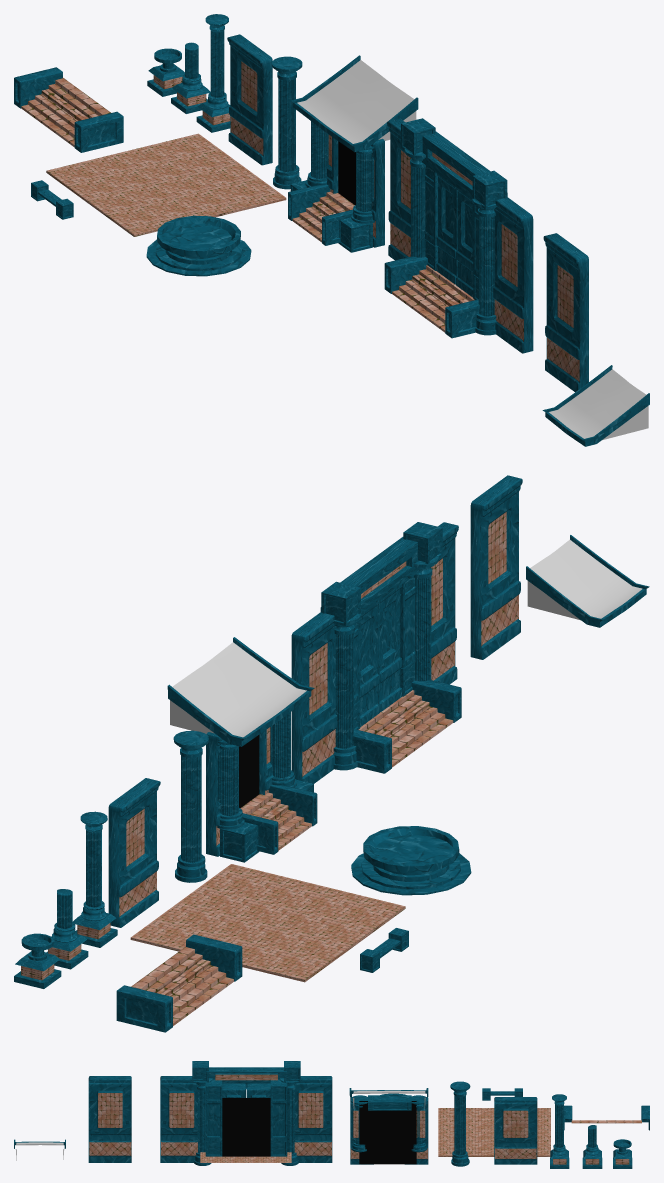
The model's file is AcientTemple.fbx.
The picture shows the model from 3 angles, top to bottom: view 1: azimuth 30°, elevation 25°; view 2: azimuth 150°, elevation 25°; view 3: azimuth 270°, elevation 25°; orthographic projection. The views are drawn at different scales.
Parts seen in each view (by area): view 1: Cube.004, Cube.021, Circle.002, Cube.022, Cube.007, Circle.038, Circle, Cube.005, Cube.012, Circle.001, Cube.006, Circle.003 (+13 smaller); view 2: Cube.004, Cube.021, Circle.002, Cube.022, Cube.007, Circle.038, Circle, Cube.005, Cube.012, Circle.001, Circle.003, Cube.006 (+13 smaller); view 3: Cube.021, Cube.022, Plane, Cube.005, Cube.004, Plane.001, Cube.015, Circle.001, Cube.017, Cube.002, Circle.003, Cube (+14 smaller).
Boxes of the visible parts, x1,y1,x2,y2 form: Cube.004: (46,133,286,236); Cube.021: (387,118,533,353); Circle.002: (290,55,418,152); Cube.022: (543,233,588,392); Cube.007: (14,67,123,152); Circle.038: (542,365,649,446); Circle: (146,215,251,276); Cube.005: (227,34,272,165); Cube.012: (384,256,479,338); Circle.001: (404,149,496,335); Cube.006: (288,184,354,245); Circle.003: (271,56,302,189); Cube.004: (130,864,405,982); Cube.021: (291,522,458,783); Circle.002: (167,637,314,746); Cube.022: (470,475,522,659); Cube.007: (116,934,242,1032); Circle.038: (526,535,649,627); Circle: (351,826,471,895); Cube.005: (108,778,160,927); Cube.012: (352,679,461,773); Circle.001: (333,557,438,770); Circle.003: (173,730,208,882); Cube.006: (240,784,317,854); Cube.021: (160,1076,332,1162); Cube.022: (88,1076,131,1162); Plane: (359,1101,416,1164); Cube.005: (494,1097,537,1164); Cube.004: (438,1108,550,1156); Plane.001: (222,1098,270,1156); Cube.015: (205,1101,287,1140); Circle.001: (193,1078,298,1165); Cube.017: (206,1067,286,1089); Cube.002: (350,1097,428,1164); Circle.003: (450,1081,470,1166); Cube: (550,1094,569,1168).
Bounding box in the file's own units: 1393 × 815 × 4711.
